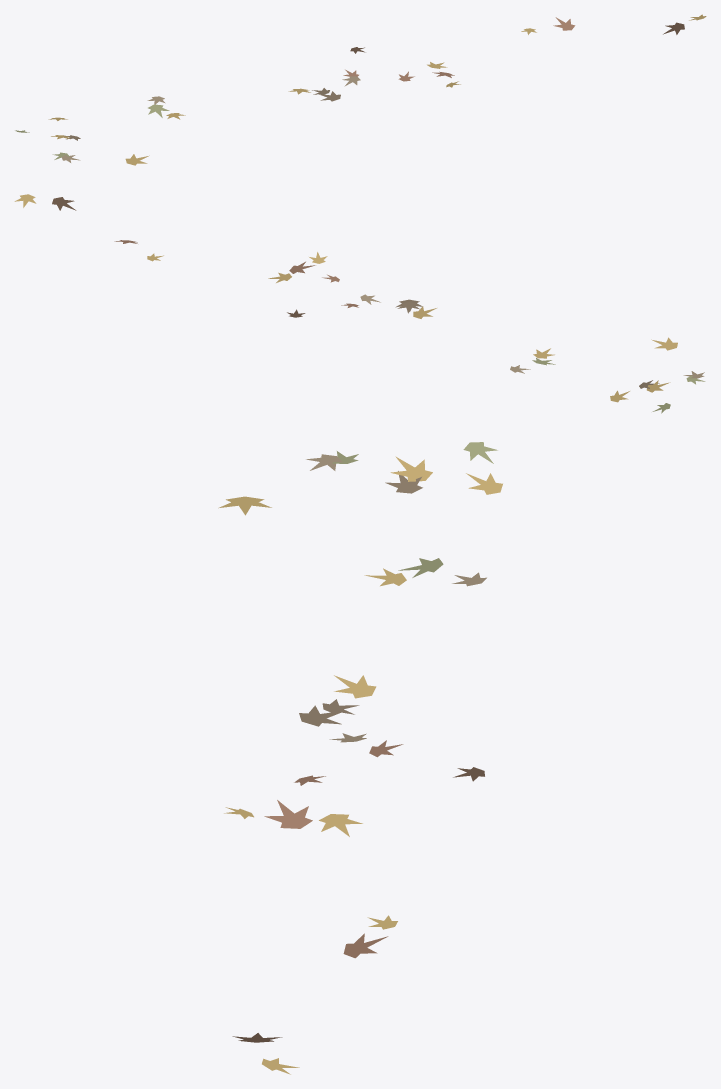
The model's file is leaf_litter_strip.fbx.
3 renders of one model, top to bottom at view 1: azimuth 30°, elevation 25°; view 2: azimuth 150°, elevation 25°; view 3: azimuth 270°, elevation 25°, orthographic. The views are drawn at different scales.
Visible parts, largest first — view 1: leaf_litter_strip; view 2: leaf_litter_strip; view 3: leaf_litter_strip.
Part boxes in pixels (box(x1,y1,x2,y2)): leaf_litter_strip: box(15, 14, 706, 165); leaf_litter_strip: box(14, 194, 705, 413); leaf_litter_strip: box(218, 442, 502, 1074).
Bounding box in the file's own units: 1.99 × 0.384 × 0.0361.
